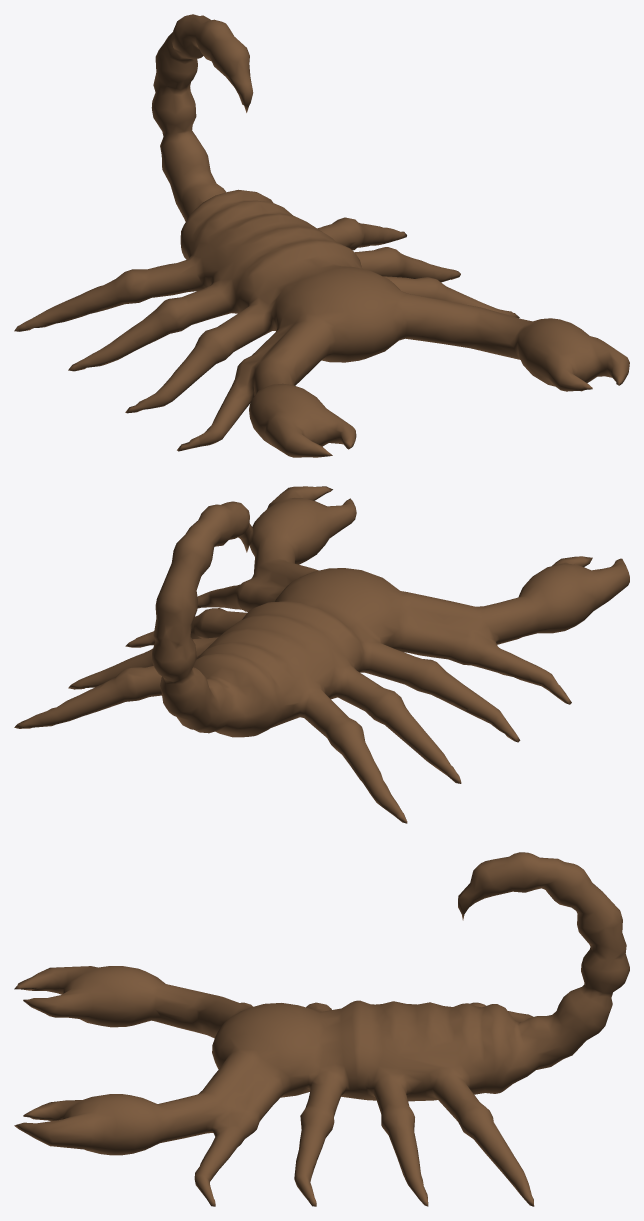
Rendered from NEW_RECOVERY_009_LOD0.glb.
3 views of the same model, one above another, from view 1: azimuth 30°, elevation 25°; view 2: azimuth 150°, elevation 25°; view 3: azimuth 270°, elevation 25° (orthographic). The views are drawn at different scales.
Visible parts, largest first — view 1: Scorpion_LOD0; view 2: Scorpion_LOD0; view 3: Scorpion_LOD0.
Boxes of the visible parts, x1=… form: Scorpion_LOD0: x1=14, y1=14, x2=629, y2=457; Scorpion_LOD0: x1=14, y1=486, x2=629, y2=823; Scorpion_LOD0: x1=14, y1=852, x2=629, y2=1206.
Bounding box in the file's own units: 3.08 × 1.99 × 4.27.
